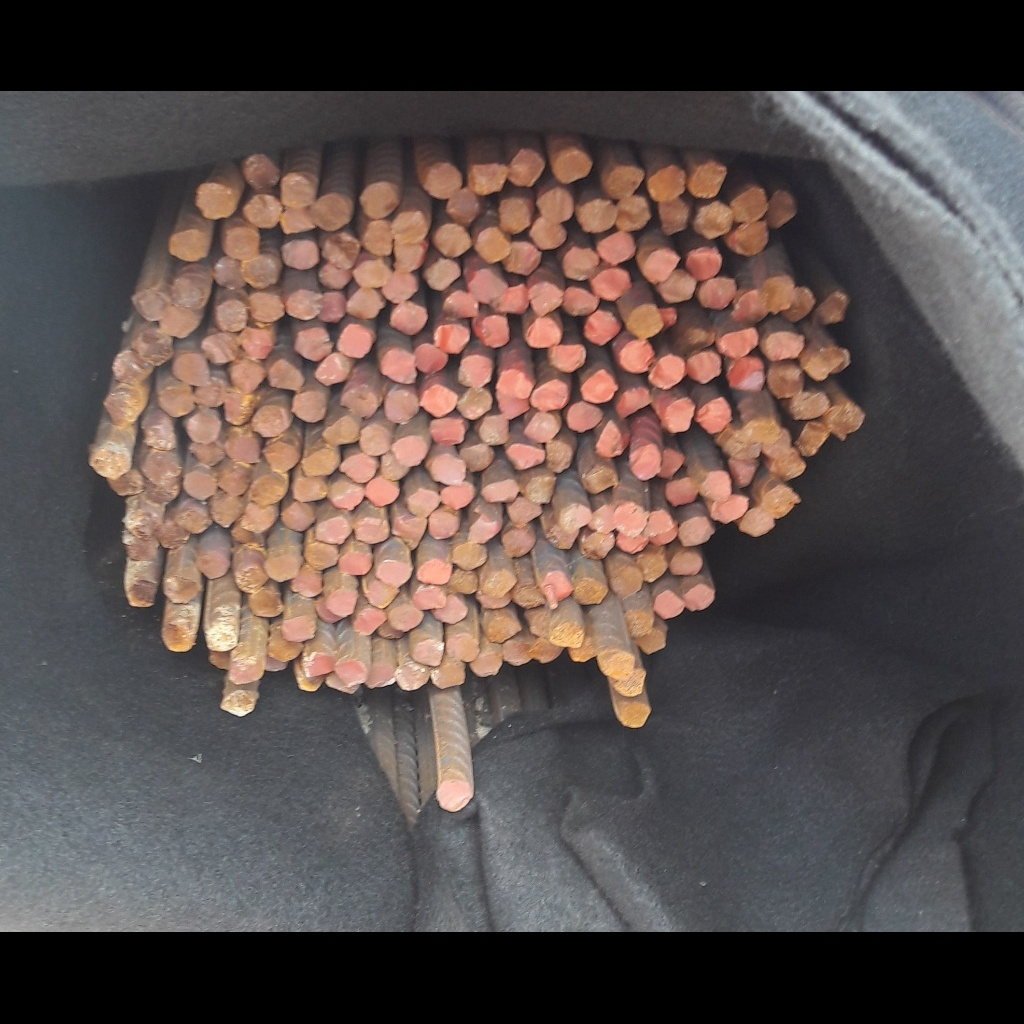dipstick: (132, 327, 175, 367), (826, 402, 867, 441), (359, 181, 399, 219), (195, 183, 238, 218), (694, 201, 733, 239), (688, 160, 727, 198), (805, 346, 847, 381), (537, 187, 574, 226), (103, 389, 142, 426), (551, 148, 592, 183), (321, 233, 360, 269), (729, 221, 769, 256), (174, 499, 215, 533), (314, 194, 351, 231), (696, 396, 733, 433), (583, 309, 621, 345), (656, 268, 695, 303), (244, 194, 284, 228), (112, 350, 152, 384), (765, 188, 798, 229), (717, 326, 759, 358), (251, 406, 294, 437), (614, 196, 651, 232), (243, 154, 281, 189), (762, 485, 801, 519), (131, 287, 171, 320), (474, 227, 510, 263), (172, 271, 209, 306), (160, 304, 197, 339), (184, 408, 221, 443), (508, 149, 543, 186), (505, 241, 542, 276), (768, 363, 805, 398), (643, 247, 680, 282), (419, 385, 457, 419), (580, 369, 618, 403), (656, 197, 690, 235), (241, 255, 280, 288), (467, 162, 506, 195), (598, 232, 637, 265), (142, 417, 181, 450), (435, 224, 471, 259), (429, 452, 465, 487), (650, 354, 685, 390), (337, 324, 374, 358), (794, 421, 831, 455), (730, 187, 767, 221), (593, 268, 631, 301), (685, 248, 723, 281), (606, 166, 645, 198), (726, 358, 765, 390), (280, 239, 320, 270), (168, 230, 209, 260), (381, 349, 417, 383), (580, 198, 616, 232), (627, 304, 663, 338), (686, 349, 722, 383), (649, 166, 685, 200), (383, 270, 420, 303), (498, 198, 531, 235), (788, 390, 830, 419), (173, 353, 211, 385), (224, 432, 262, 464), (697, 277, 735, 309), (144, 450, 182, 482), (279, 174, 318, 205), (530, 380, 570, 410), (447, 189, 481, 224), (563, 247, 598, 281), (764, 331, 805, 360), (123, 507, 164, 536), (160, 384, 196, 417), (531, 217, 567, 250), (759, 276, 792, 312), (732, 290, 768, 323), (295, 328, 332, 360), (424, 258, 461, 290), (784, 286, 816, 323), (391, 303, 429, 334), (469, 269, 507, 300), (671, 325, 714, 352), (428, 164, 462, 198), (458, 386, 493, 419), (619, 339, 654, 372), (213, 257, 249, 289), (229, 359, 265, 391), (391, 434, 427, 466), (528, 282, 564, 314), (250, 474, 287, 505), (597, 648, 634, 679), (678, 517, 716, 547), (209, 498, 248, 527), (225, 227, 259, 260), (394, 237, 428, 270), (270, 359, 304, 392), (361, 220, 393, 255), (202, 333, 237, 365), (223, 391, 255, 426), (457, 355, 492, 387), (91, 445, 126, 477), (348, 287, 384, 318), (263, 441, 299, 472), (436, 781, 472, 812), (631, 444, 662, 480), (525, 318, 562, 348), (562, 286, 599, 316), (616, 387, 653, 417), (162, 575, 201, 603), (386, 390, 419, 423), (329, 478, 363, 510), (614, 502, 646, 536), (316, 354, 351, 385), (317, 515, 352, 546), (243, 502, 279, 532), (434, 324, 471, 353), (300, 448, 338, 476), (548, 345, 586, 373), (710, 495, 748, 523), (469, 645, 502, 677), (817, 290, 849, 323), (393, 211, 427, 242), (287, 289, 321, 320), (432, 658, 466, 689), (414, 343, 449, 373), (324, 416, 360, 445), (279, 206, 316, 234), (353, 261, 390, 289), (248, 292, 285, 320), (215, 299, 247, 331), (541, 570, 573, 602), (240, 327, 273, 358), (291, 565, 324, 596), (407, 488, 440, 519), (636, 552, 669, 583), (699, 470, 732, 501), (293, 392, 327, 422), (568, 403, 602, 433), (430, 417, 465, 446), (432, 594, 467, 623), (182, 472, 218, 500), (364, 477, 400, 505), (340, 454, 376, 482), (341, 389, 377, 417), (443, 291, 479, 319), (664, 397, 692, 433), (221, 690, 258, 717), (507, 443, 544, 470), (741, 504, 773, 535), (773, 450, 805, 481), (269, 631, 302, 661), (480, 315, 510, 348), (526, 412, 560, 441), (582, 465, 617, 493), (377, 560, 414, 586), (727, 456, 758, 487), (218, 466, 250, 496), (250, 589, 284, 617), (460, 444, 494, 472), (665, 477, 699, 505), (264, 554, 299, 581), (502, 530, 537, 557), (597, 421, 624, 456), (281, 502, 313, 531), (412, 637, 444, 666), (142, 482, 179, 507), (395, 663, 428, 691), (195, 379, 229, 406), (580, 531, 614, 558), (660, 447, 687, 481), (282, 614, 317, 640), (354, 518, 389, 544), (417, 558, 452, 584), (497, 371, 532, 397), (291, 476, 327, 501), (389, 606, 425, 631), (743, 419, 779, 444), (485, 569, 516, 598), (636, 626, 667, 655), (655, 590, 686, 619), (610, 567, 642, 595), (236, 564, 269, 591), (230, 658, 264, 684), (453, 543, 487, 569), (508, 497, 542, 523), (574, 579, 608, 605), (670, 551, 704, 577), (318, 264, 353, 289), (190, 441, 225, 466), (450, 633, 480, 662), (764, 427, 793, 457), (321, 292, 349, 323), (199, 552, 230, 580), (162, 624, 193, 652), (544, 442, 572, 473), (684, 584, 715, 612), (157, 522, 189, 549), (488, 616, 521, 642), (483, 478, 517, 503), (110, 469, 144, 494), (396, 516, 425, 545), (429, 510, 458, 539), (480, 416, 509, 445), (568, 634, 597, 663), (359, 425, 389, 453), (205, 624, 237, 650), (305, 543, 337, 569), (531, 636, 563, 662), (446, 569, 479, 594), (125, 535, 159, 559), (326, 588, 355, 616), (501, 285, 529, 314), (525, 477, 556, 503), (619, 703, 650, 729), (367, 582, 399, 607), (440, 484, 472, 509), (614, 671, 646, 696), (560, 504, 592, 529), (126, 583, 158, 608), (551, 624, 584, 648), (727, 435, 760, 459), (625, 609, 653, 637), (503, 638, 532, 665), (515, 582, 544, 609), (496, 396, 530, 419), (548, 524, 579, 549), (336, 660, 366, 685), (354, 609, 384, 634), (645, 511, 675, 536), (381, 452, 408, 479), (590, 505, 617, 532), (415, 585, 445, 609), (469, 515, 499, 539), (339, 553, 371, 575), (477, 590, 513, 609), (315, 597, 341, 623), (304, 653, 333, 676), (617, 532, 648, 553), (369, 666, 394, 688), (652, 523, 677, 545), (529, 610, 550, 635), (208, 651, 230, 670), (301, 675, 323, 692)
